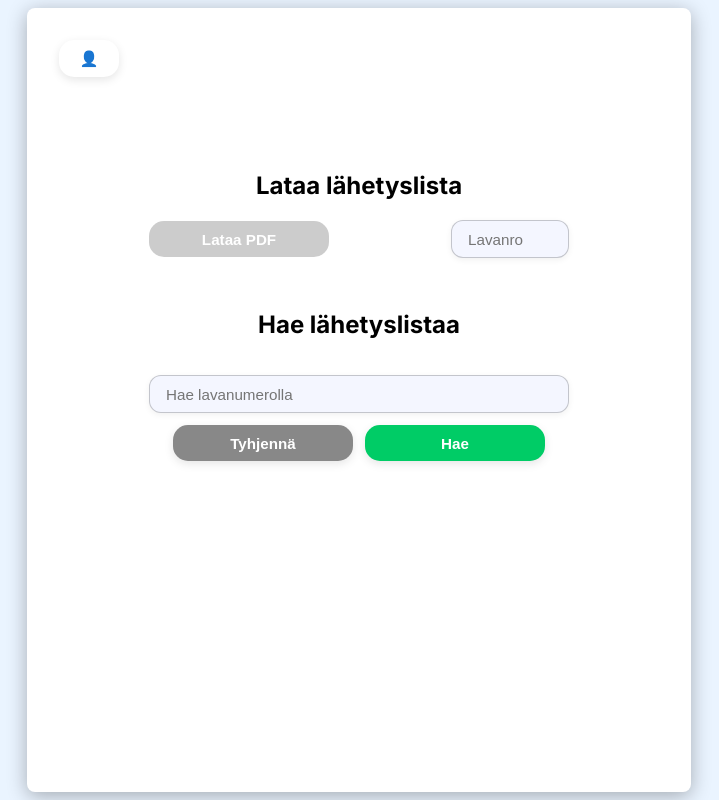
InspectDocument-sivu (dokumentin muokkaus) › 2.6 Määrä-kenttä on muokattavissa
Click the button with class "user-change".
click(89, 59)  # box [59,40,119,77]
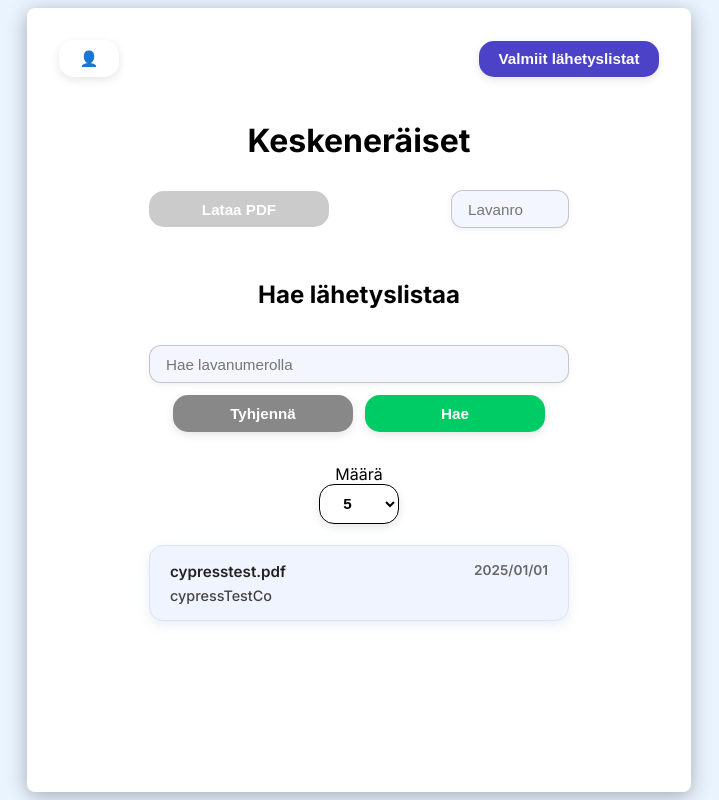
Check: the element with class "document-container" is shown, box [149,540,569,626]
Click the element with class "document".
click(359, 583)  # box [149,545,569,621]
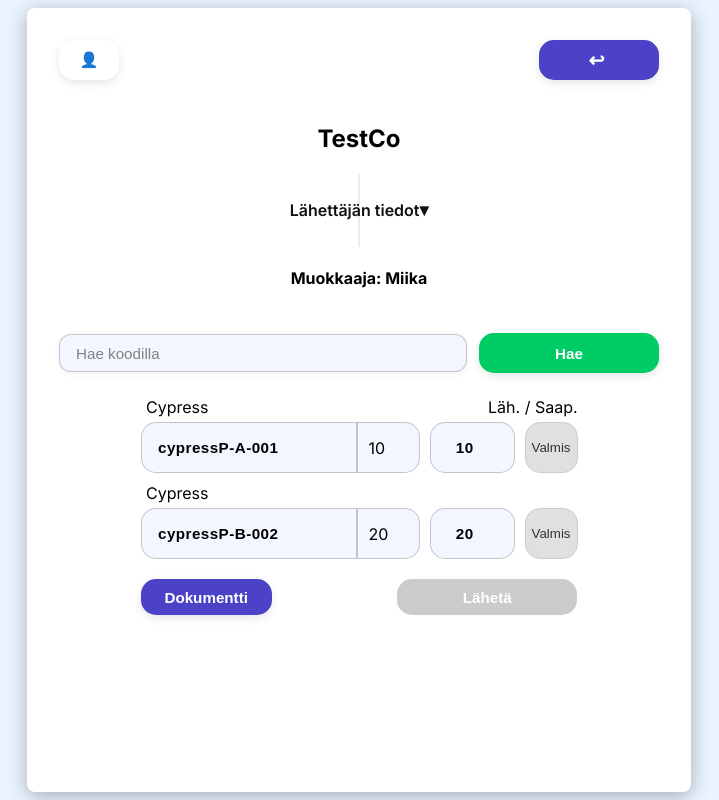
Check: the element that starts with "TestCo" is shown, box [59,40,659,615]
Type "5" into the number field with class "input-field-qty" next to "10".
click(473, 448); type("5")  # box [430,422,515,473]
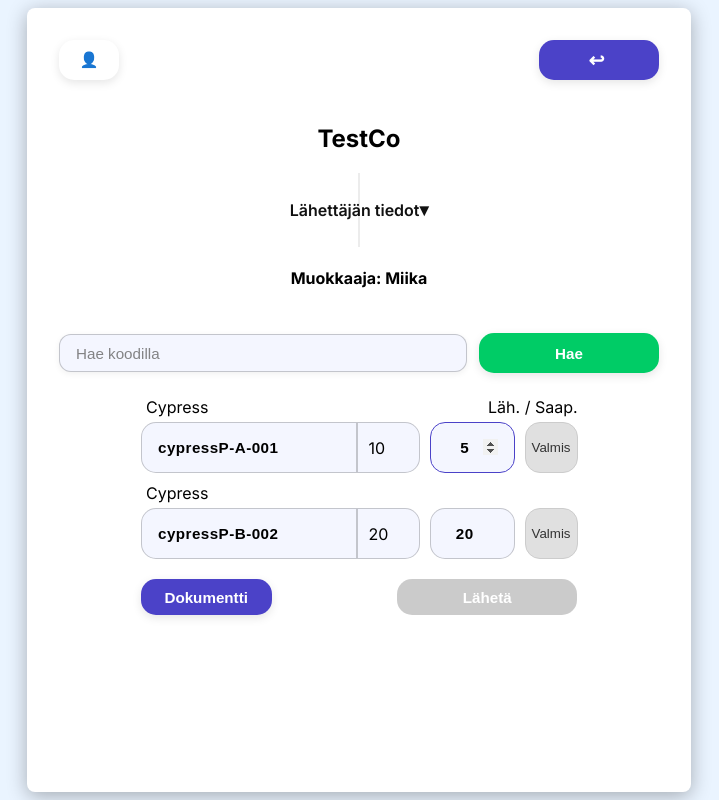
Check: the number field with class "input-field-qty" next to "10" holds "5", box [430,422,515,473]
